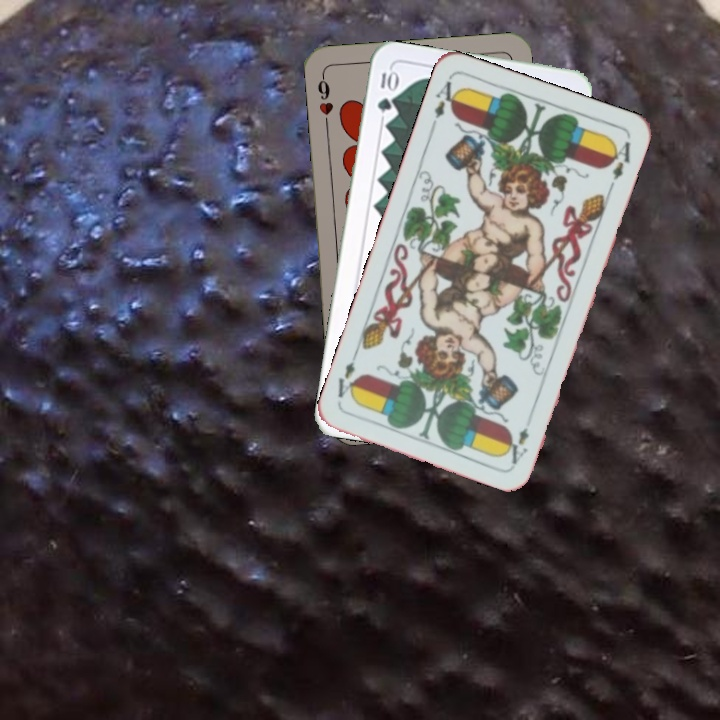EA: (426, 77, 463, 132), (508, 423, 532, 467)
G10: (373, 65, 399, 115)
H9: (313, 71, 336, 130)
